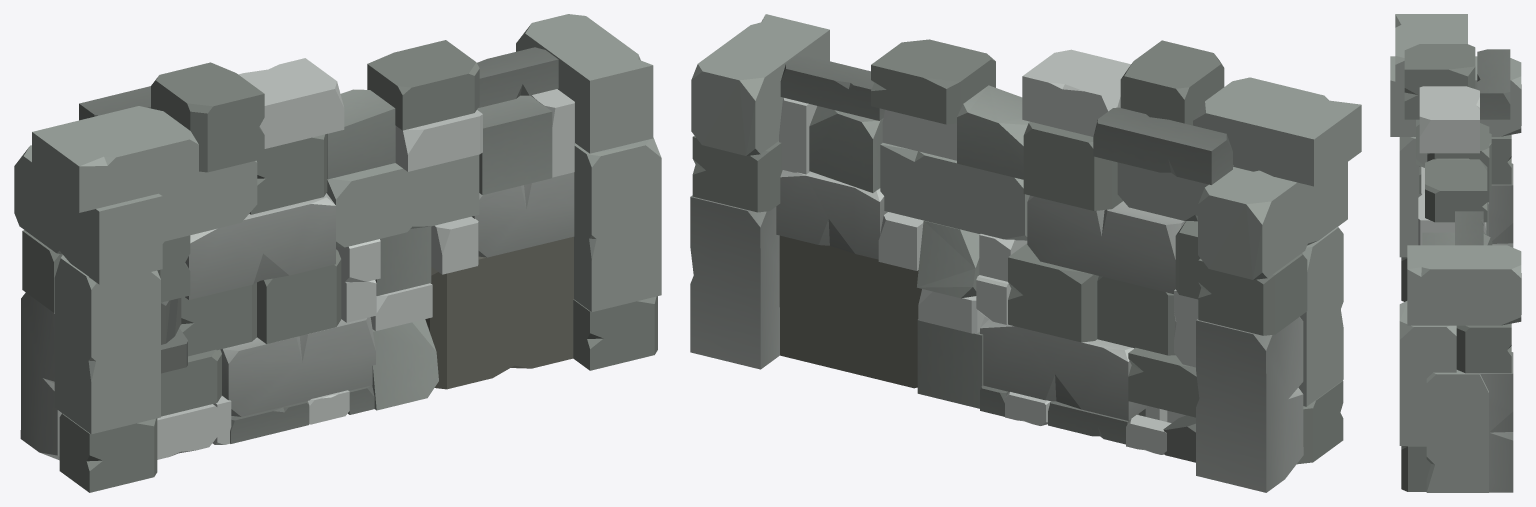
File: ZLP_Build_D_41.FBX
3 views of the same model, side by side, from view 1: azimuth 30°, elevation 25°; view 2: azimuth 150°, elevation 25°; view 3: azimuth 270°, elevation 25° (orthographic). The views are drawn at different scales.
Parts seen in each view (by area): view 1: ZLP_Build_D_41; view 2: ZLP_Build_D_41; view 3: ZLP_Build_D_41.
Part boxes in pixels (left/top/right/bottom): ZLP_Build_D_41: left=14, top=14, right=661, bottom=492; ZLP_Build_D_41: left=690, top=14, right=1361, bottom=492; ZLP_Build_D_41: left=1390, top=14, right=1521, bottom=492.
Bounding box in the file's own units: 354 × 204 × 88.61.
